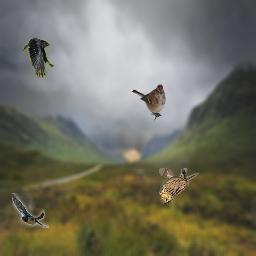Crow: (23, 38, 54, 78)
Sparrow: (159, 168, 199, 204), (131, 83, 166, 123)
Swallow: (12, 193, 49, 228)
